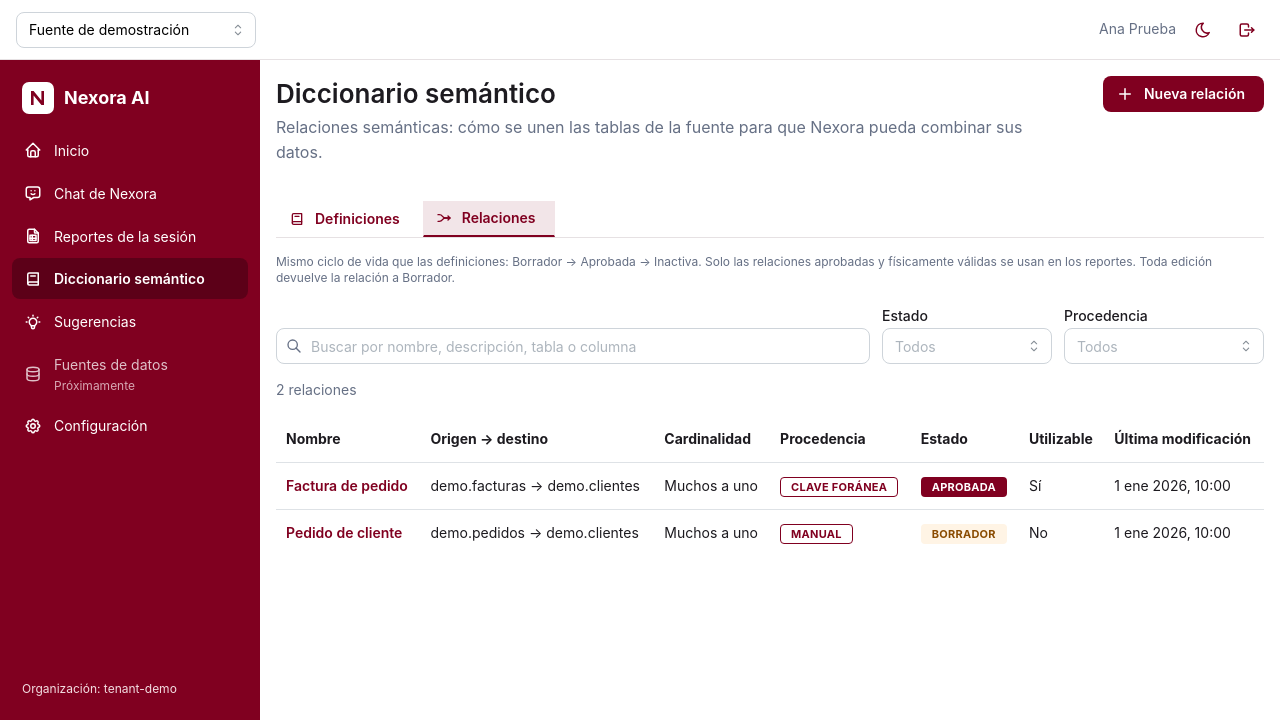
Test: semantic relationships (B3) › lists, searches and filters relationships, under the dictionary tabs
Expected: the text "2 relaciones" is shown, [276,381,356,398]
Type "facturas" into the field labelled "Buscar". click: (573, 346)
box: [276,328,870,364]
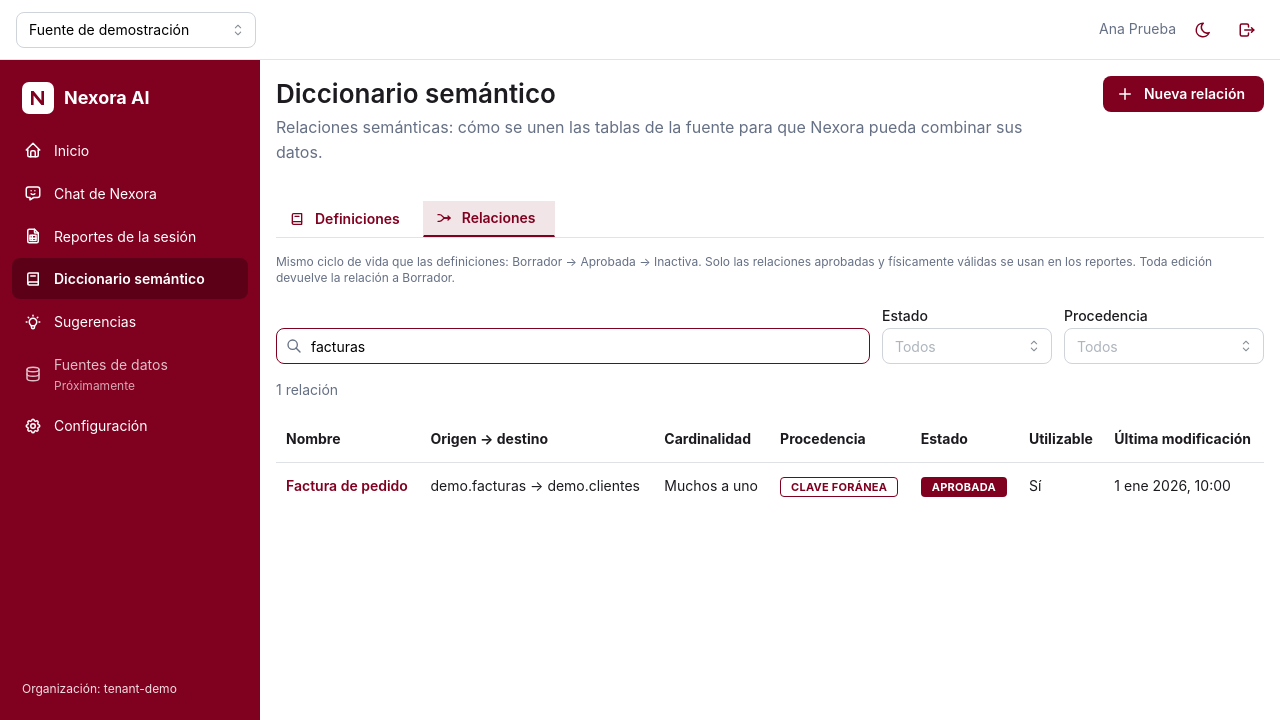
Expected: the text "1 relación" is shown, [276,381,338,398]
Clear the field named "Buscar". click: (573, 346)
box: [276,328,870,364]
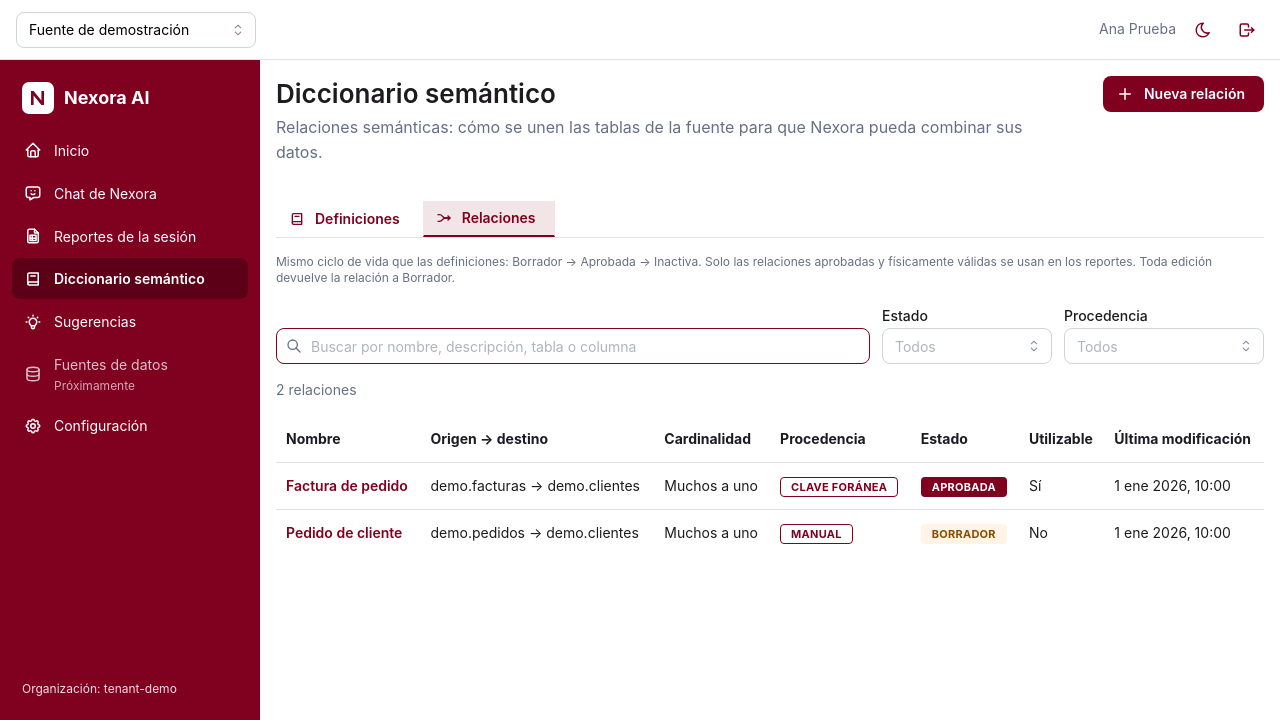
Click the field labelled "Procedencia". click: (1164, 346)
box: [1064,328,1264,364]
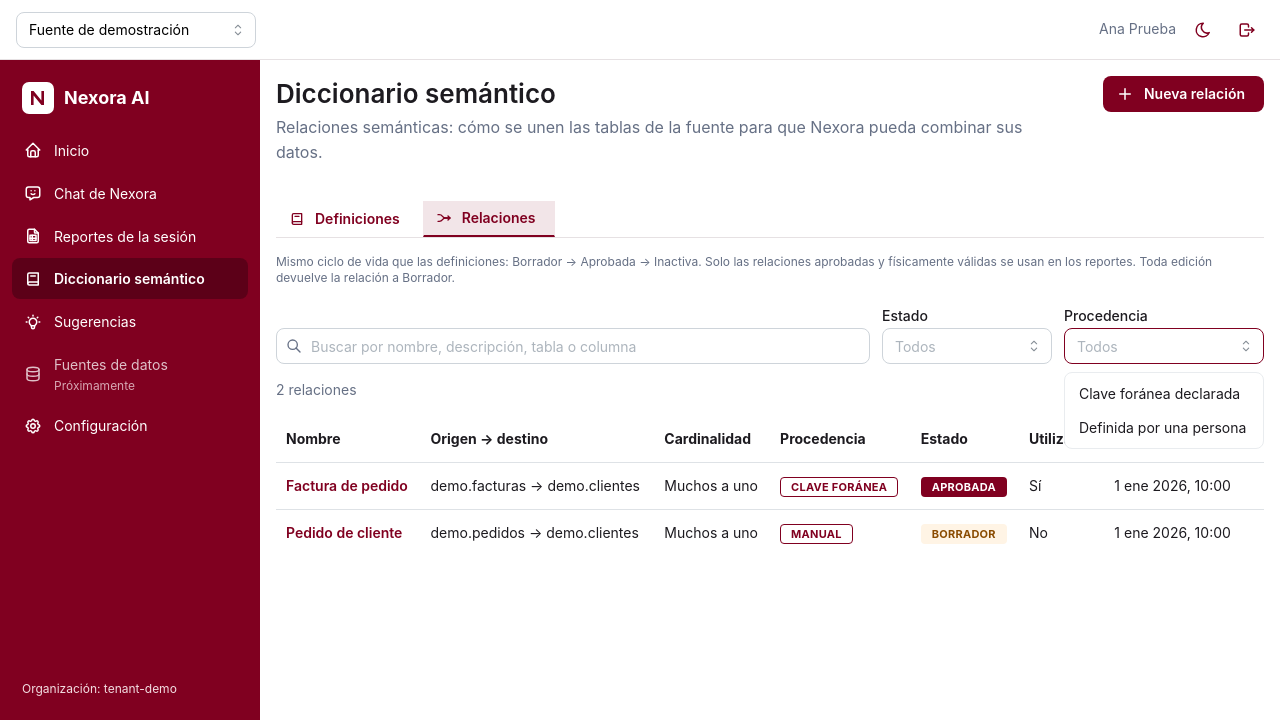
Click the option "Definida por una persona". click: (1163, 427)
box: [1079,419,1246,436]
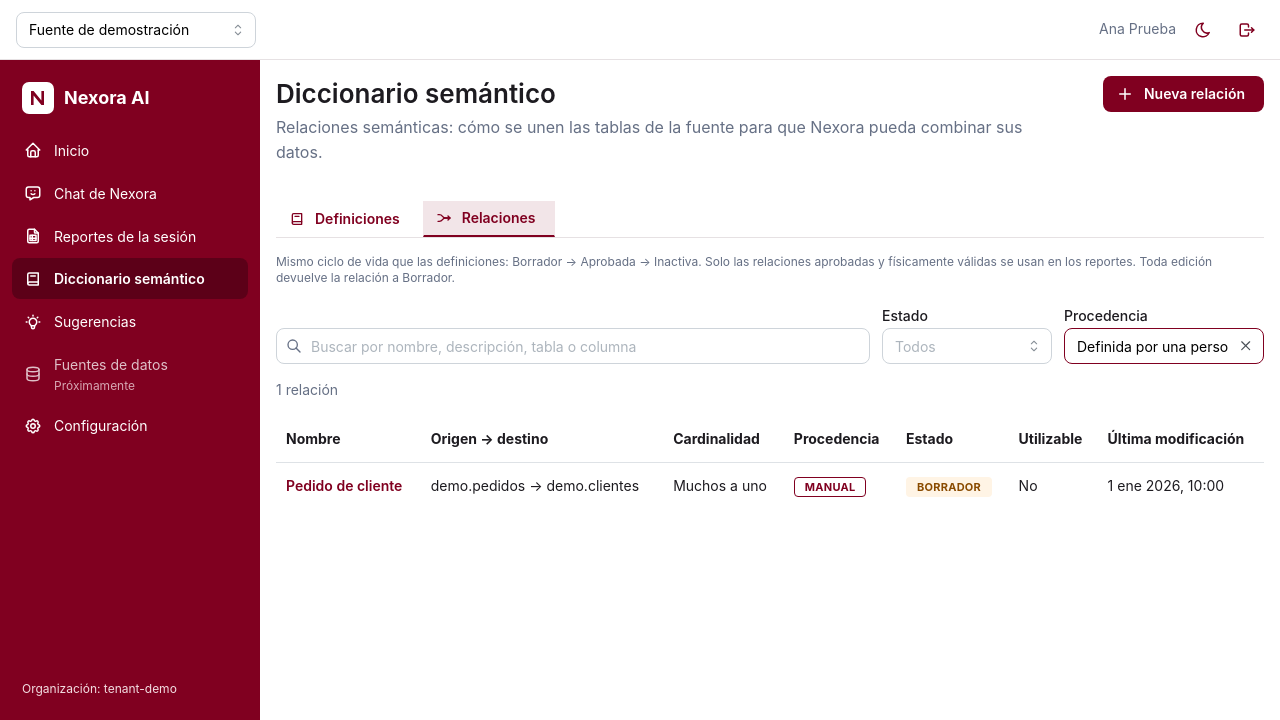
Expected: the text "Pedido de cliente" is shown, [286,476,402,496]
Expected: the text "1 relación" is shown, [276,381,338,398]
